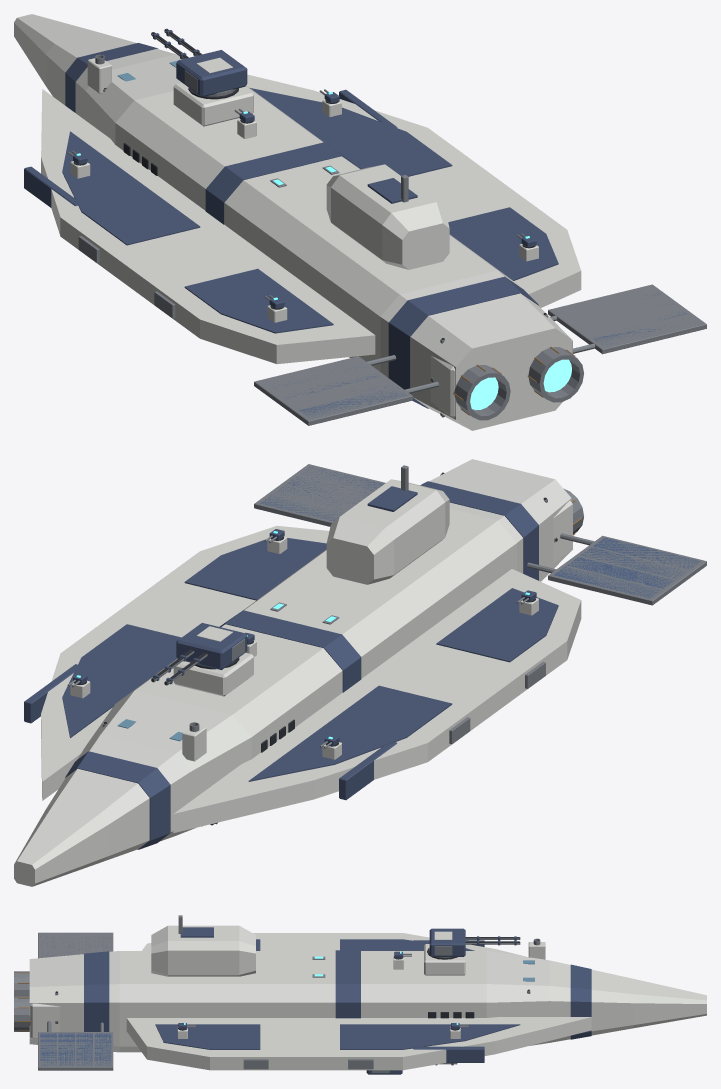
File: earth_air_defense_cruiser_t5.glb
3 renders of one model, top to bottom at view 1: azimuth 30°, elevation 25°; view 2: azimuth 150°, elevation 25°; view 3: azimuth 270°, elevation 25°, orthographic. The views are drawn at different scales.
Parts seen in each view (by area): view 1: FleetHull, mesh_turret_gun_1; view 2: FleetHull, mesh_turret_gun_1; view 3: FleetHull, mesh_turret_gun_1, mesh_recoil_gun_1.
Boxes of the visible parts, x1,y1,x2,y2 form: FleetHull: (14, 14, 706, 430); mesh_turret_gun_1: (176, 50, 247, 96); FleetHull: (14, 459, 706, 886); mesh_turret_gun_1: (176, 623, 247, 669); FleetHull: (14, 915, 706, 1070); mesh_turret_gun_1: (429, 928, 465, 957); mesh_recoil_gun_1: (465, 936, 520, 945).
Size of the model in its own units: 152 by 79.8 by 330.
